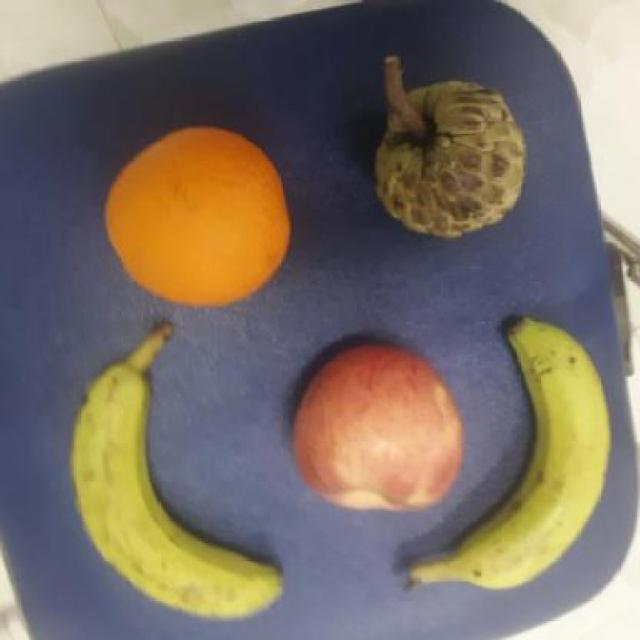apple: (291, 342, 467, 516)
banana: (65, 362, 292, 621), (448, 318, 610, 604)
oren: (100, 124, 292, 308)
sugar apple: (373, 77, 527, 240)
